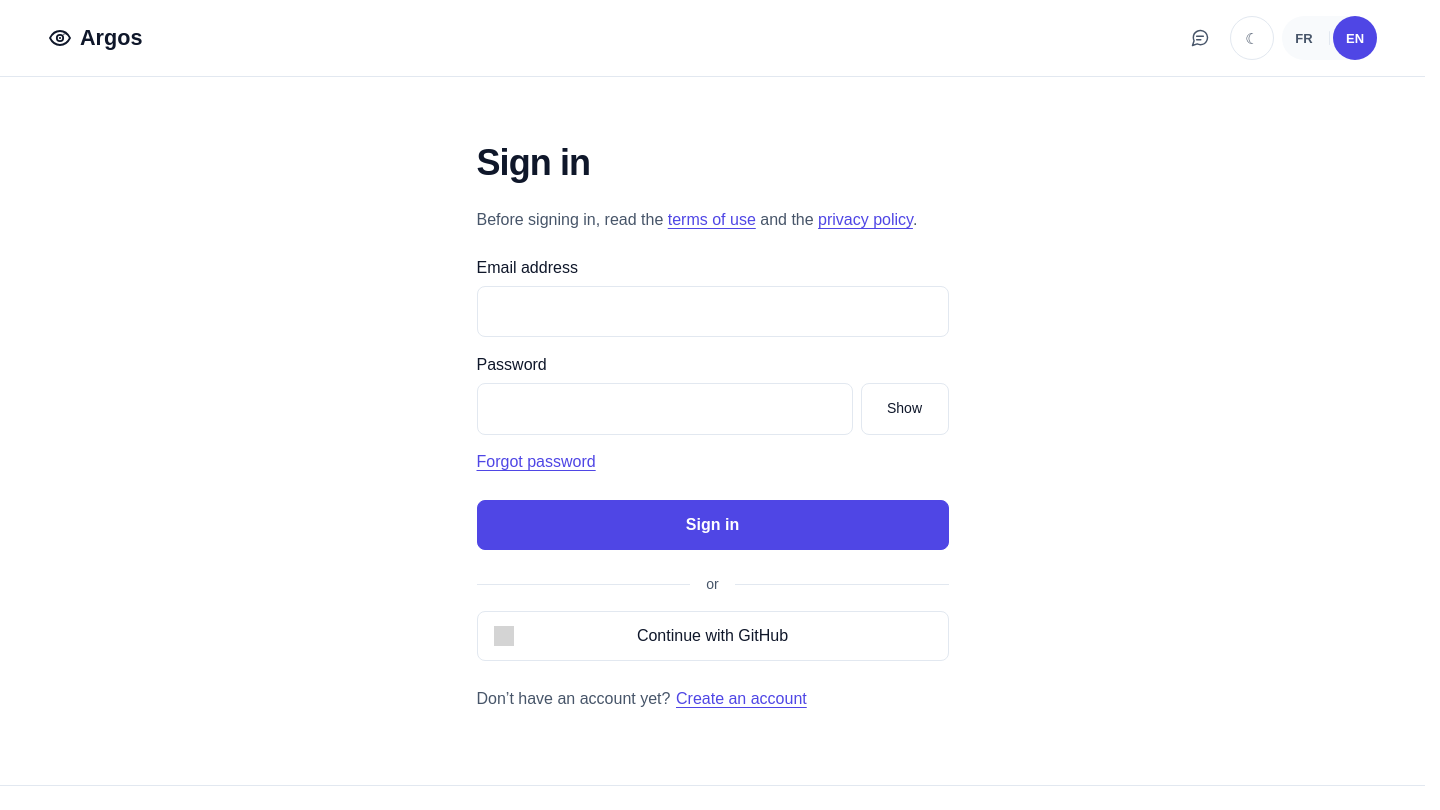
Test: reveals passwords without losing input, selection or pointer/keyboard focus in en sign-in
Step 1. Click the password field labelled "Password" → (664, 409), box [476,383,852,435]
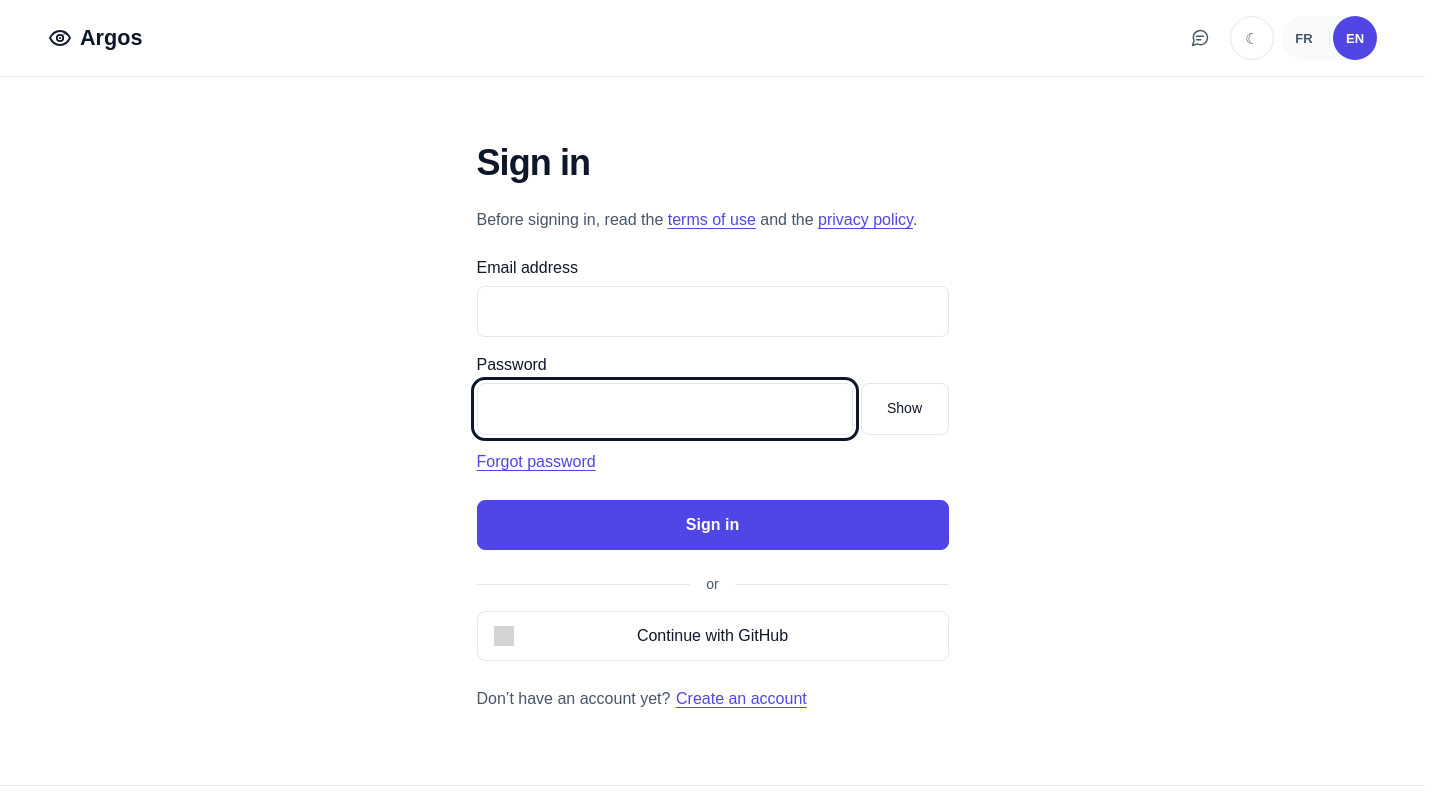
Step 2. Type keys "a synthetic passphrase"
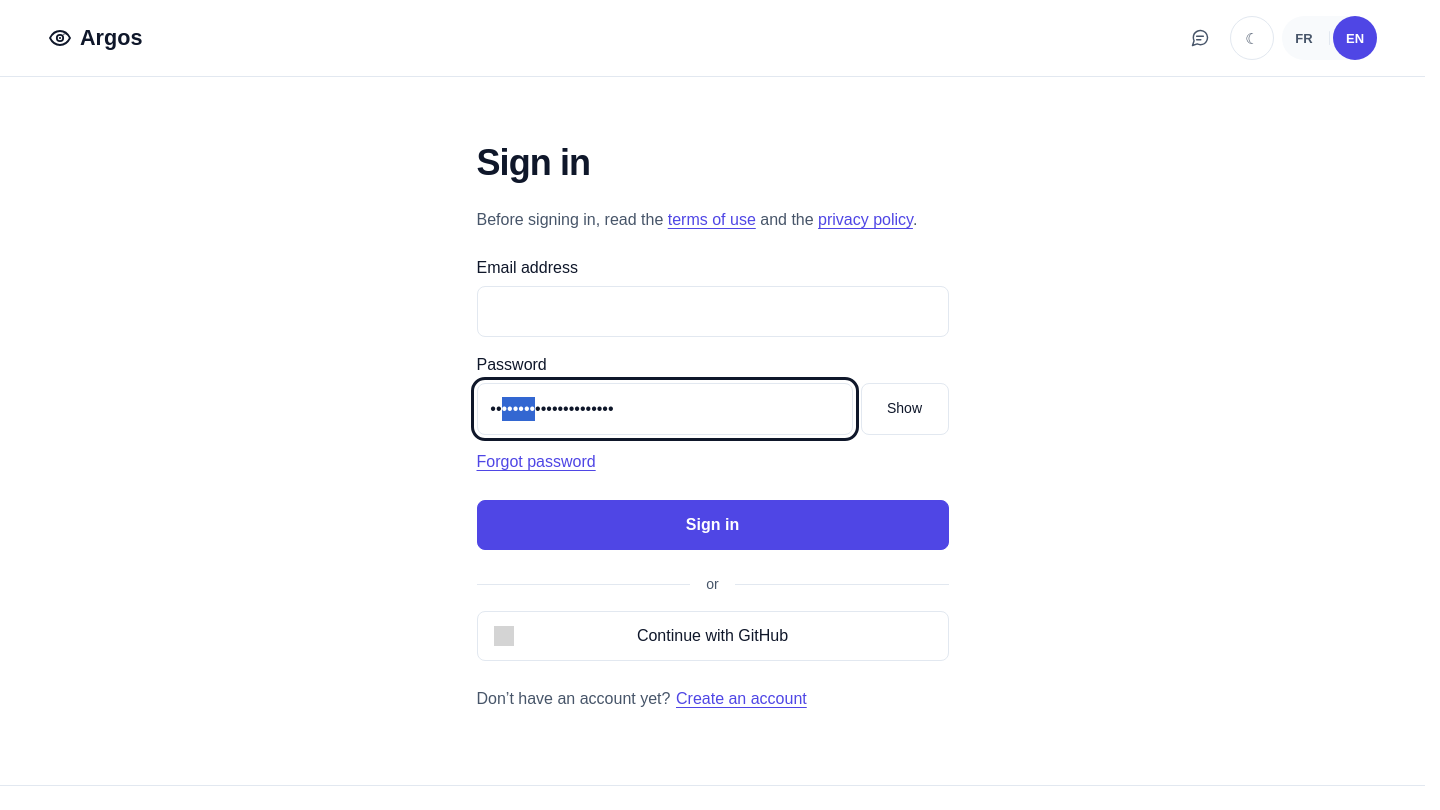
Step 3. Click the button with aria-label "Show password" → (904, 409), box [860,383,948,435]
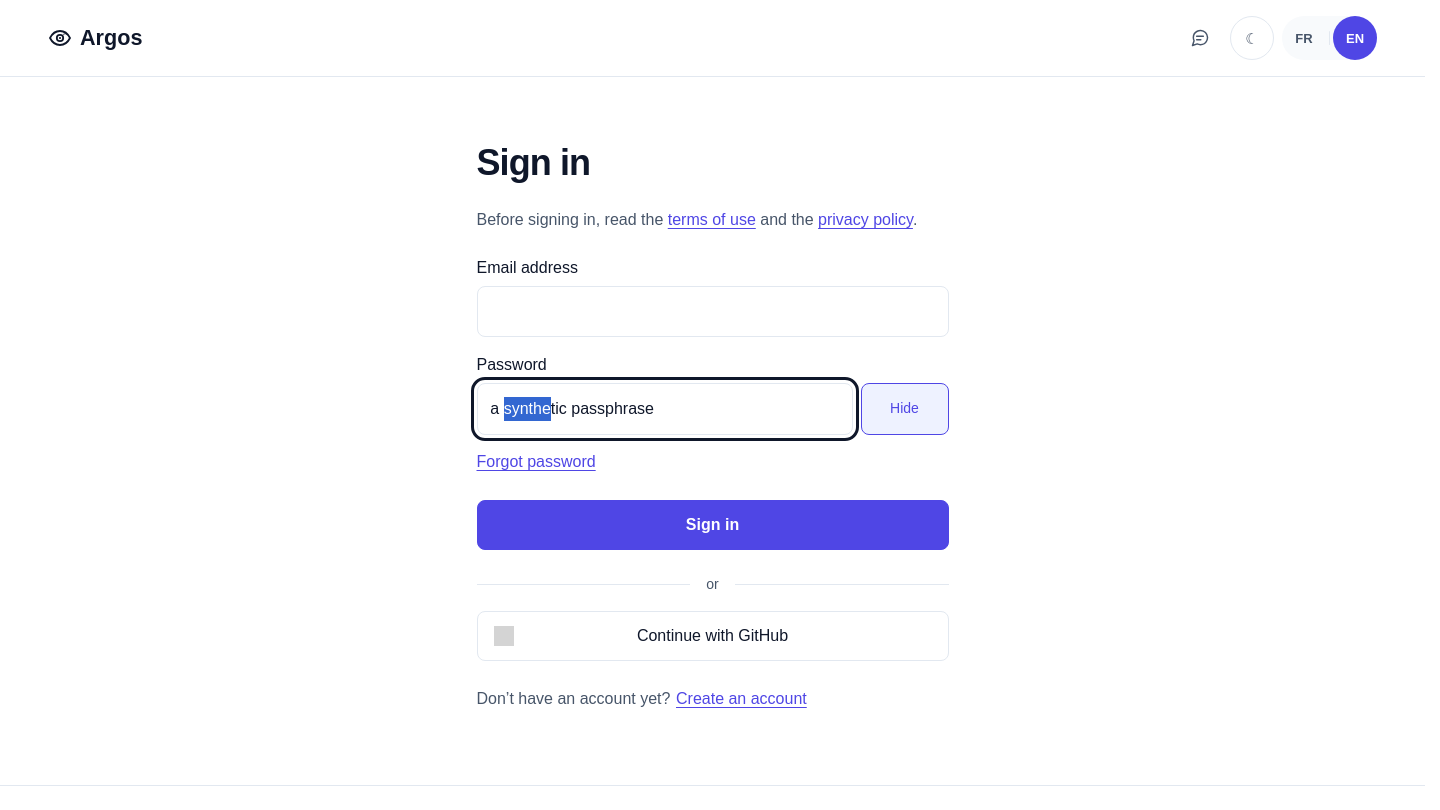
Expected: the field labelled "Password" holds "a synthetic passphrase", [476,383,852,435]
Expected: the field labelled "Password" shows its text, [476,383,852,435]
Step 4. Press Tab
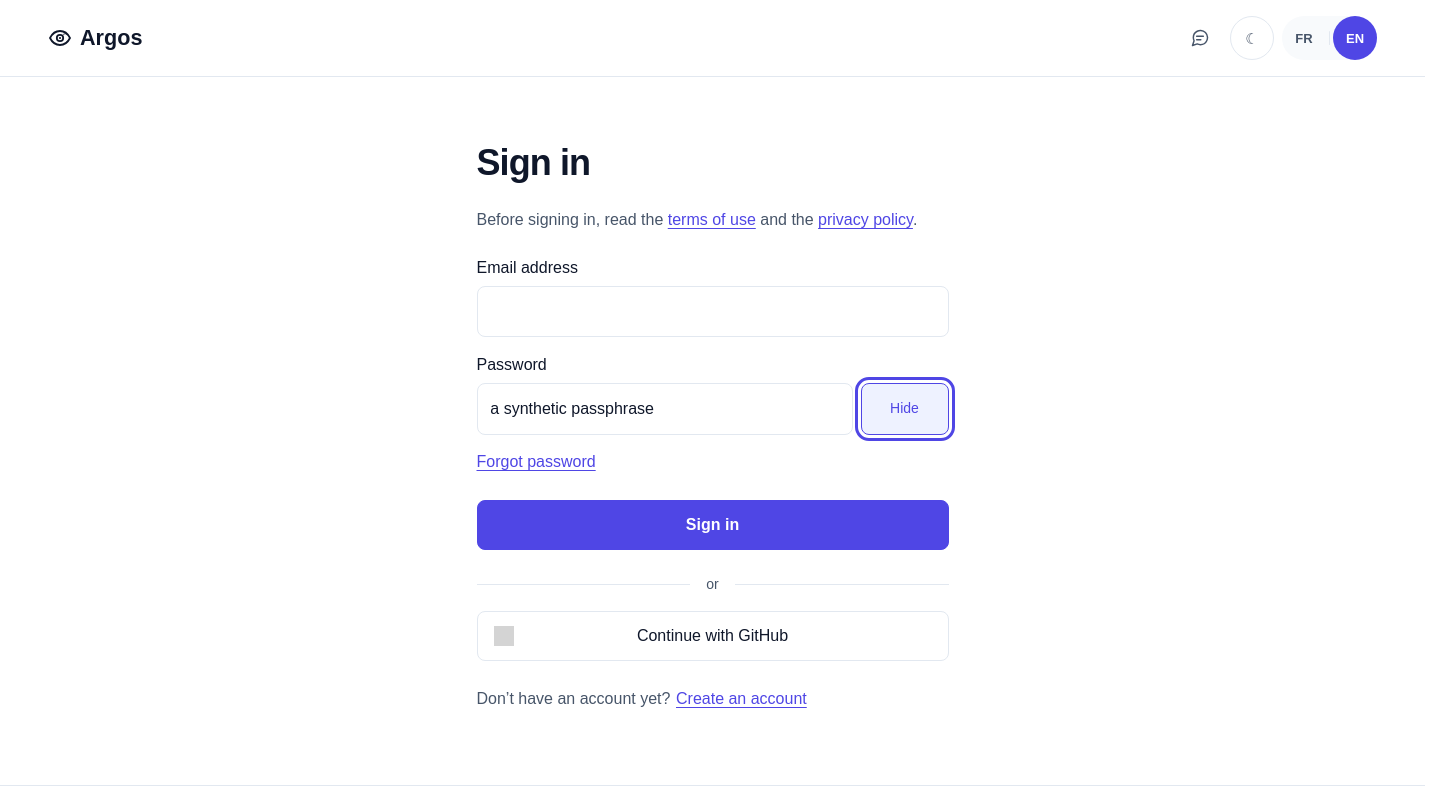
Step 5. Type keys " "
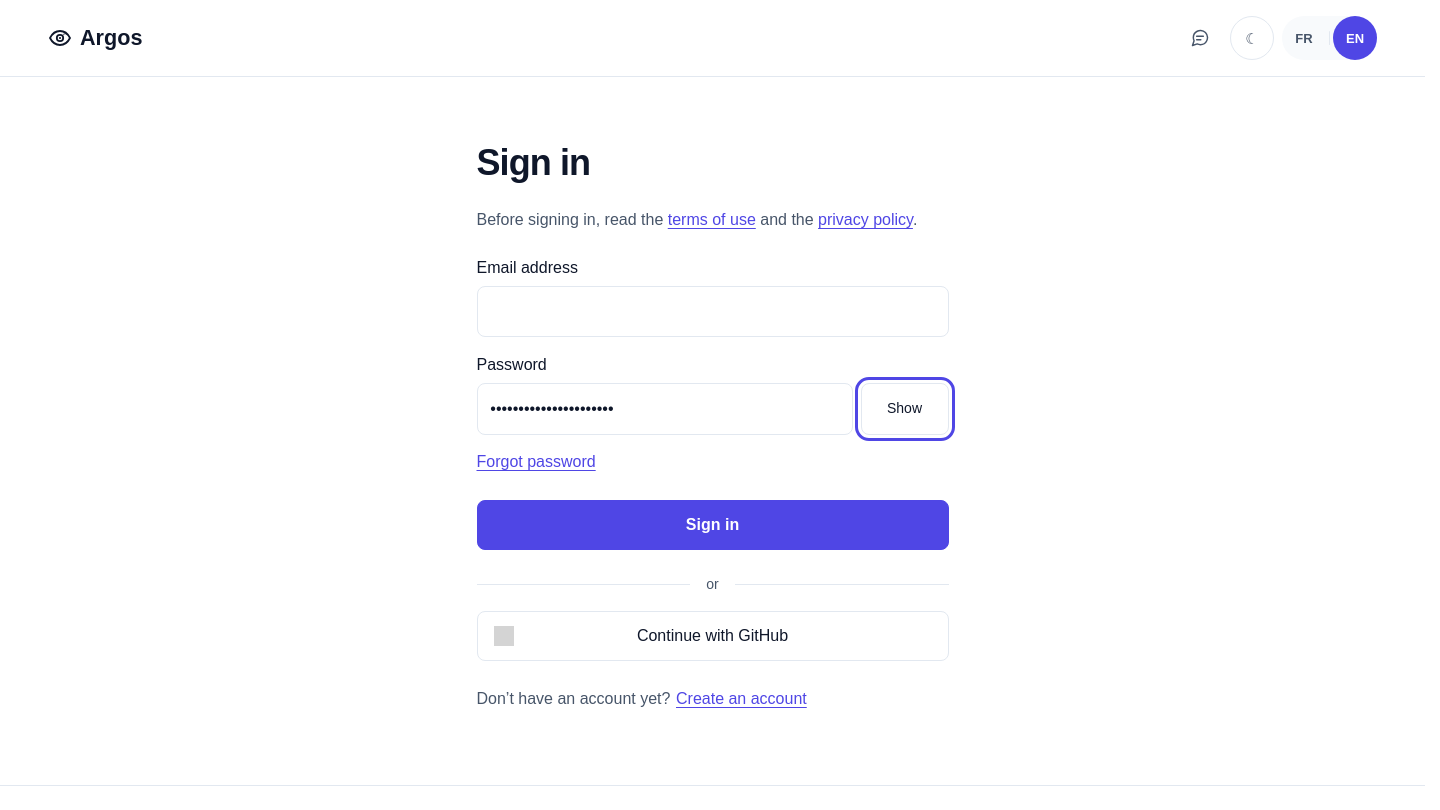
Expected: the password field labelled "Password" hides its text, [476,383,852,435]
Step 6. Press Enter
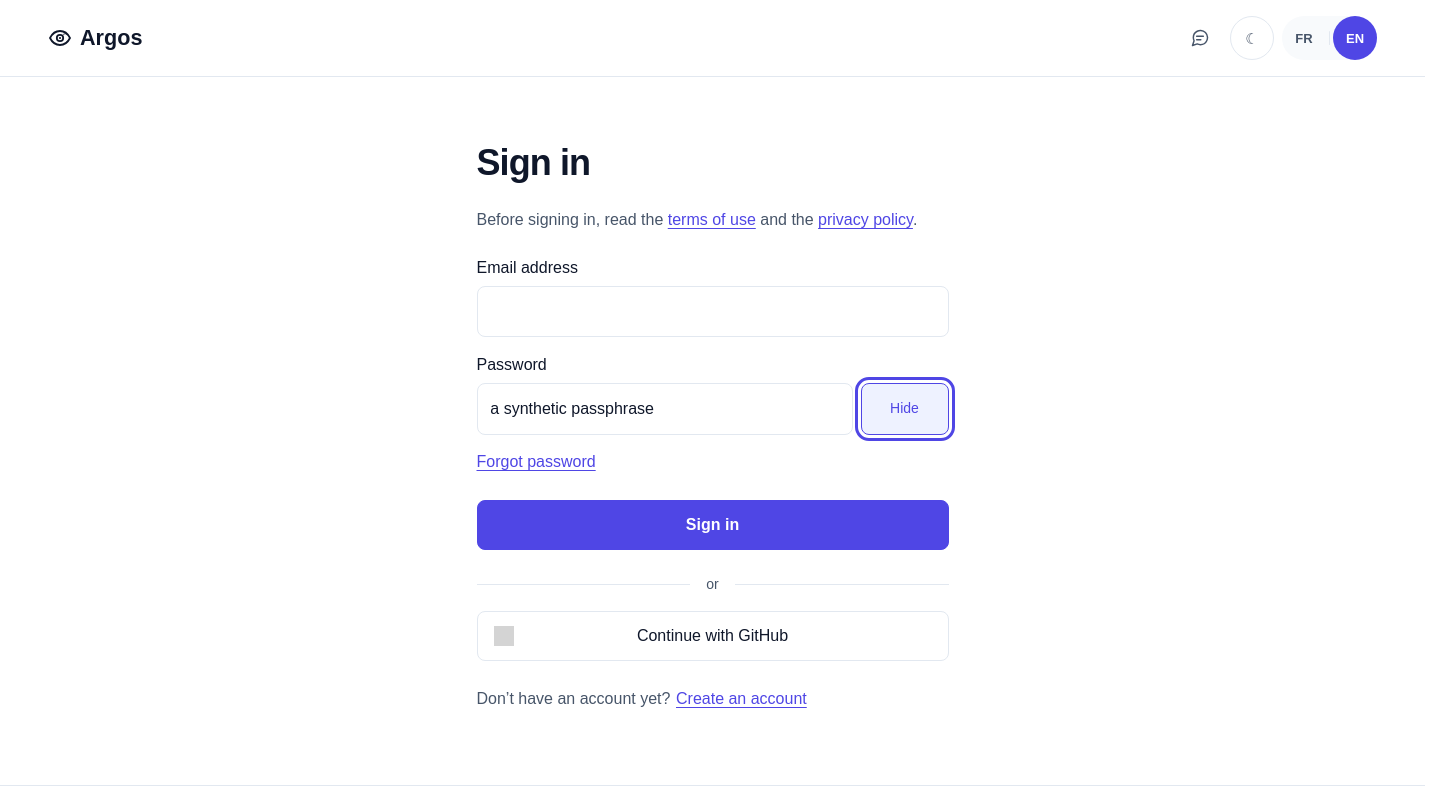
Expected: the field labelled "Password" shows its text, [476,383,852,435]
